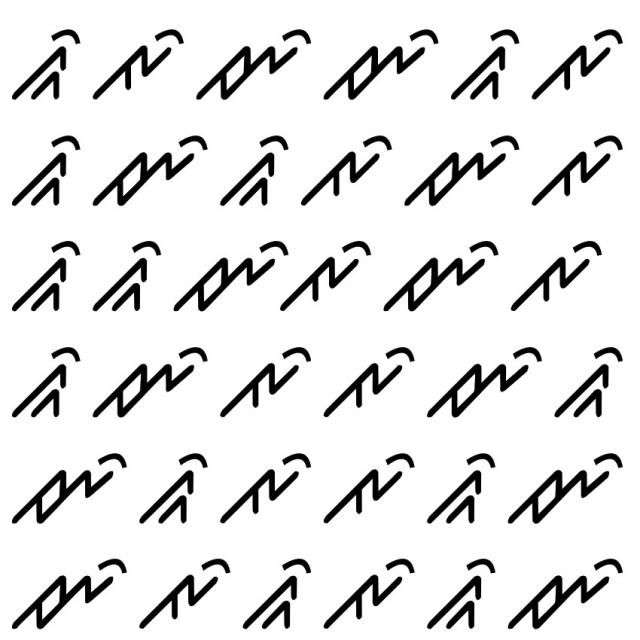ay: (323, 551, 419, 634), (530, 19, 626, 102), (218, 339, 314, 421), (323, 449, 419, 531), (509, 233, 608, 312), (529, 127, 624, 207), (92, 26, 186, 106), (222, 447, 314, 528), (323, 338, 416, 418), (138, 556, 232, 635), (302, 135, 397, 208), (289, 240, 380, 314)
nggay: (5, 24, 87, 108), (8, 334, 85, 422), (133, 442, 210, 530), (5, 132, 84, 212), (426, 453, 502, 534), (549, 346, 627, 422), (242, 556, 316, 636), (220, 132, 293, 212), (88, 239, 163, 316), (449, 24, 519, 103), (13, 235, 82, 315), (428, 556, 499, 632)
njay: (193, 17, 312, 113), (5, 450, 130, 539), (509, 446, 626, 541), (91, 127, 212, 218), (322, 19, 441, 111), (8, 549, 131, 633), (172, 228, 288, 316), (91, 338, 210, 423), (423, 339, 544, 421), (505, 556, 626, 638), (382, 238, 503, 318), (404, 129, 520, 211)
